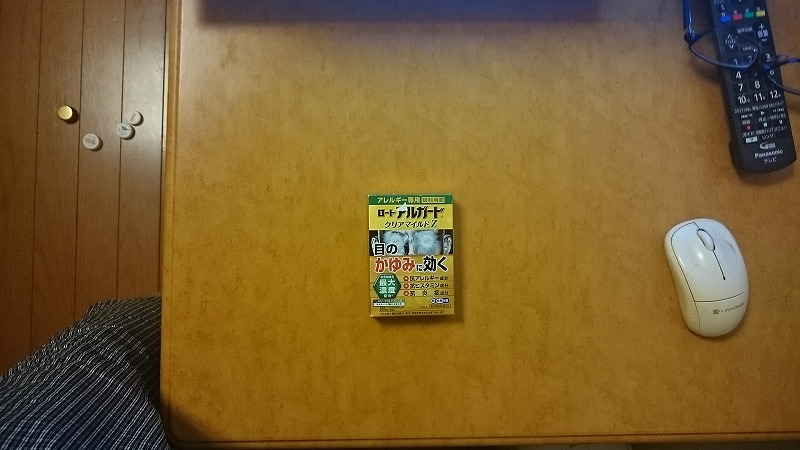C: (364, 189, 459, 321)
